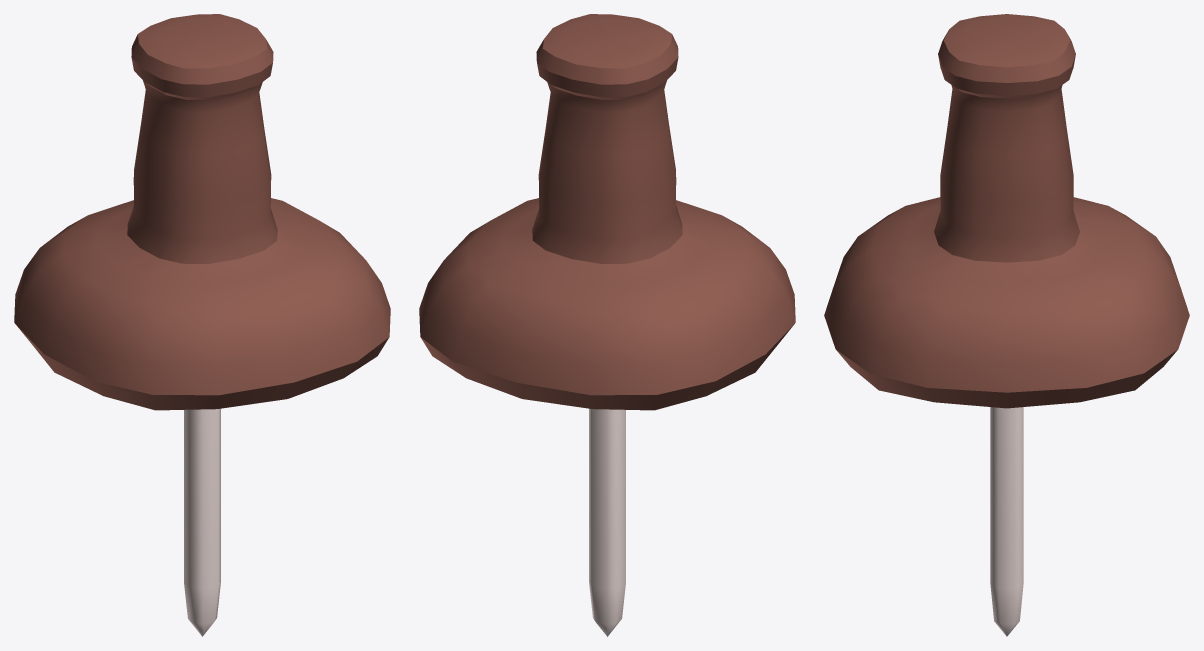
The model's file is Puntina_con_texture.fbx.
3 views of the same model, side by side, from view 1: azimuth 30°, elevation 25°; view 2: azimuth 150°, elevation 25°; view 3: azimuth 270°, elevation 25° (orthographic).
Visible parts, largest first — view 1: polySurface3; view 2: polySurface3; view 3: polySurface3.
Boxes of the visible parts, x1=… form: polySurface3: x1=14, y1=14, x2=390, y2=636; polySurface3: x1=419, y1=14, x2=795, y2=636; polySurface3: x1=824, y1=14, x2=1189, y2=636.
Bounding box in the file's own units: 2.65 × 4.8 × 2.65.
